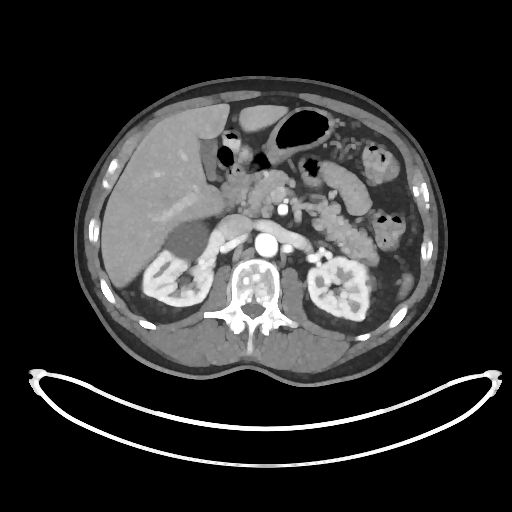Lesion: (363, 271, 381, 293)
